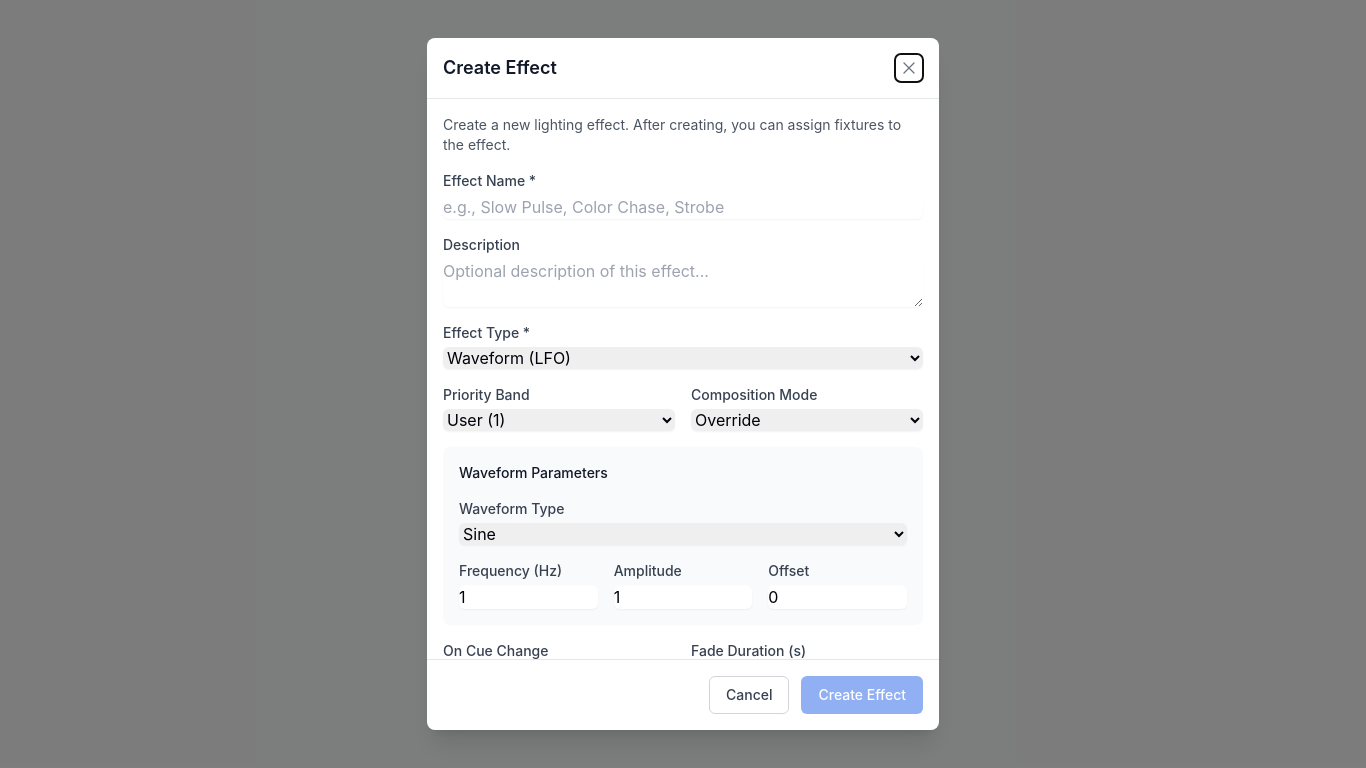
Test: CreateEffectModal › form interactions › shows master parameters when master effect type is selected
Select "Master (Intensity)" in the dropdown labelled "Effect Type *". click: (683, 358)
box: [443,347,923,369]
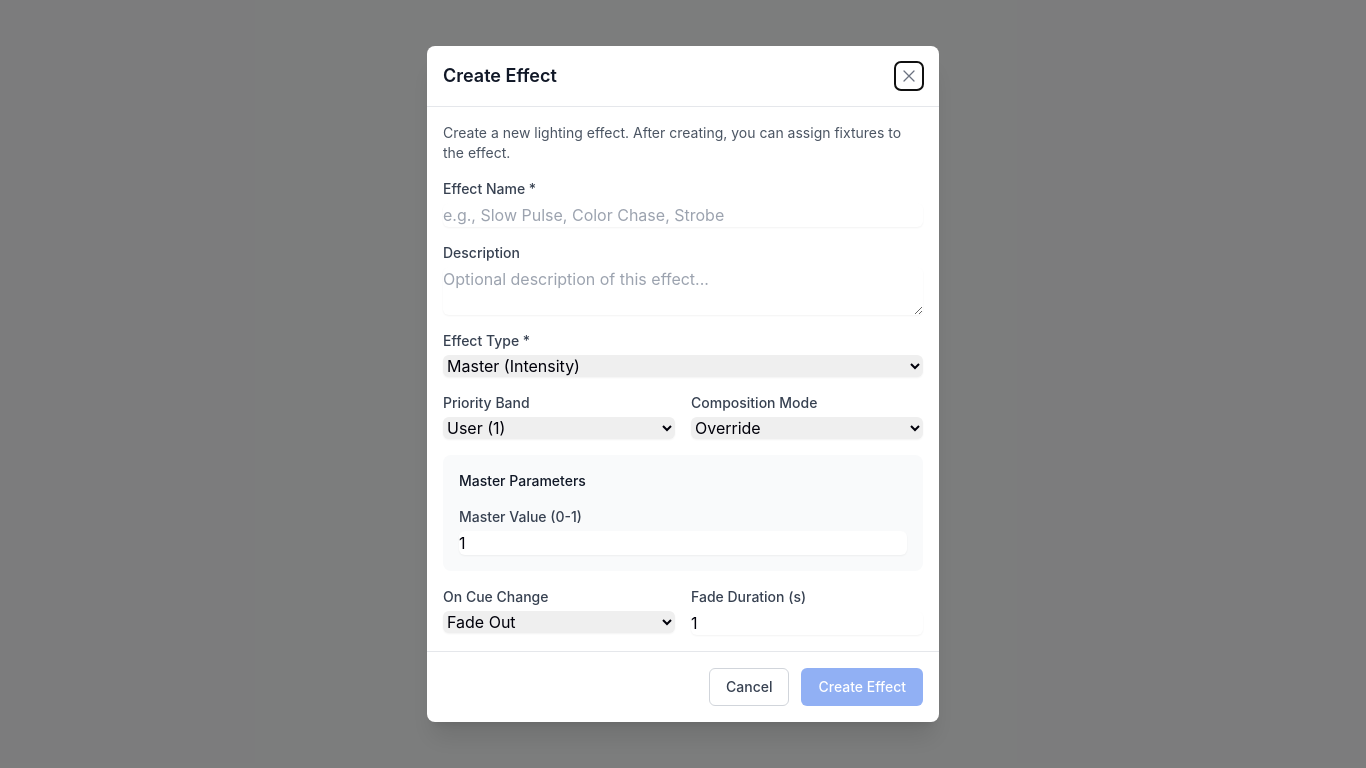
Now the heading "Master Parameters" is shown, box [459,472,586,489]
Now the number field labelled "Master Value (0-1)" is shown, box [459,531,907,555]
